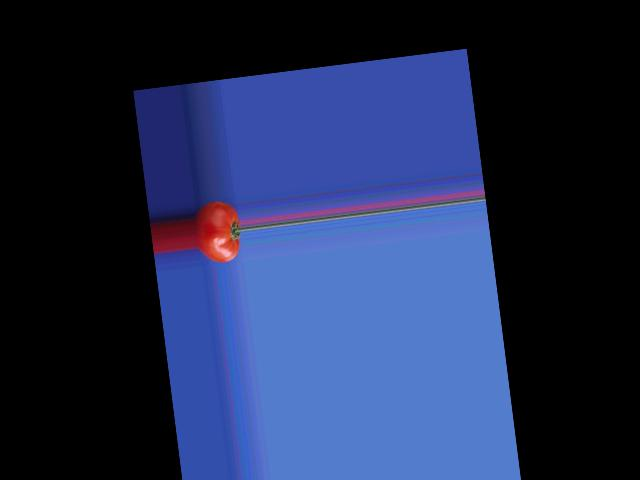tomato: (191, 198, 244, 264)
